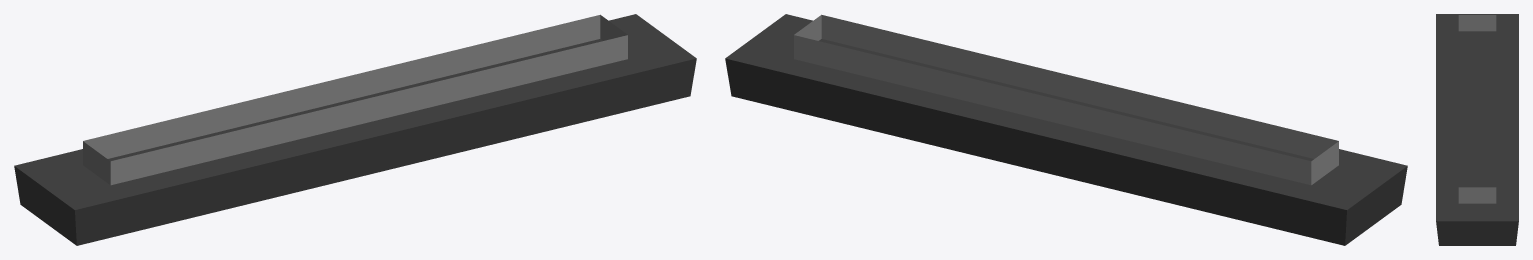
The model's file is Ceiling Lamp 2.fbx.
3 views of the same model, side by side, from view 1: azimuth 30°, elevation 25°; view 2: azimuth 150°, elevation 25°; view 3: azimuth 270°, elevation 25° (orthographic). The views are drawn at different scales.
Visible parts, largest first — view 1: Ceiling Lamp 2; view 2: Ceiling Lamp 2; view 3: Ceiling Lamp 2.
Boxes of the visible parts, x1=… form: Ceiling Lamp 2: x1=14, y1=14, x2=696, y2=245; Ceiling Lamp 2: x1=725, y1=14, x2=1407, y2=245; Ceiling Lamp 2: x1=1436, y1=14, x2=1518, y2=245.
Size of the model in its own units: 109 by 11.1 by 18.49.
